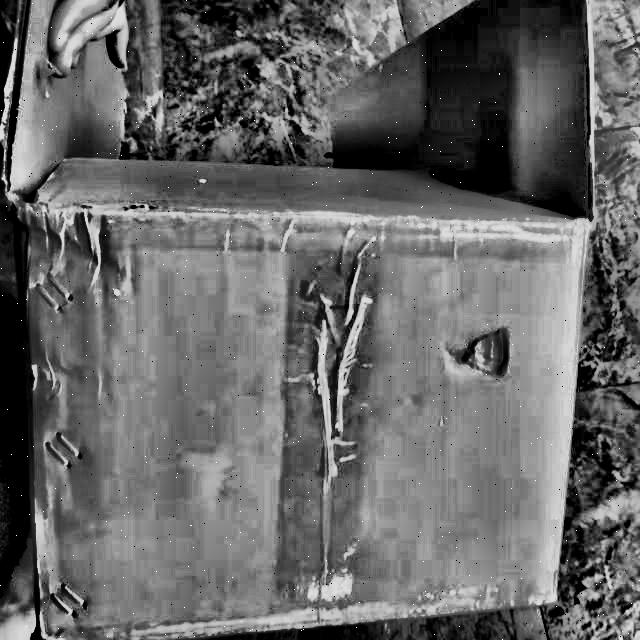box: (1, 1, 600, 637)
hole: (457, 329, 511, 379)
